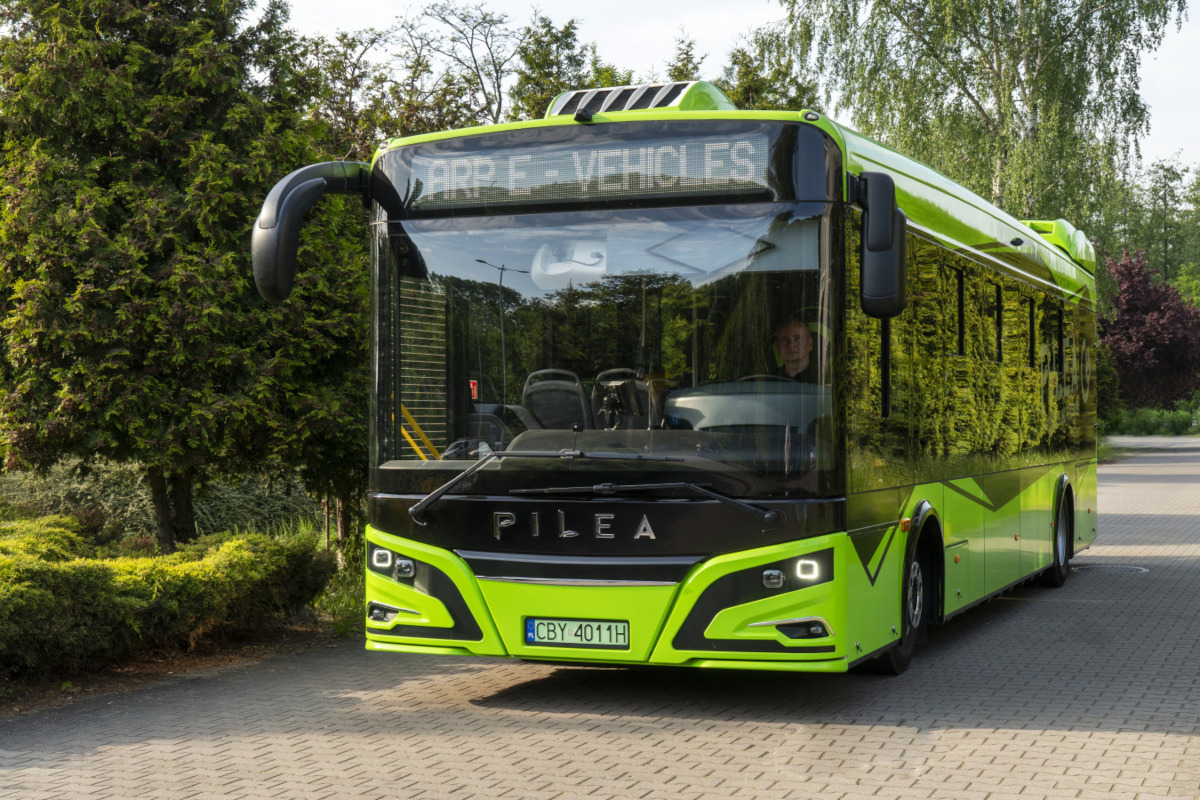autobus: (250, 82, 1101, 682)
